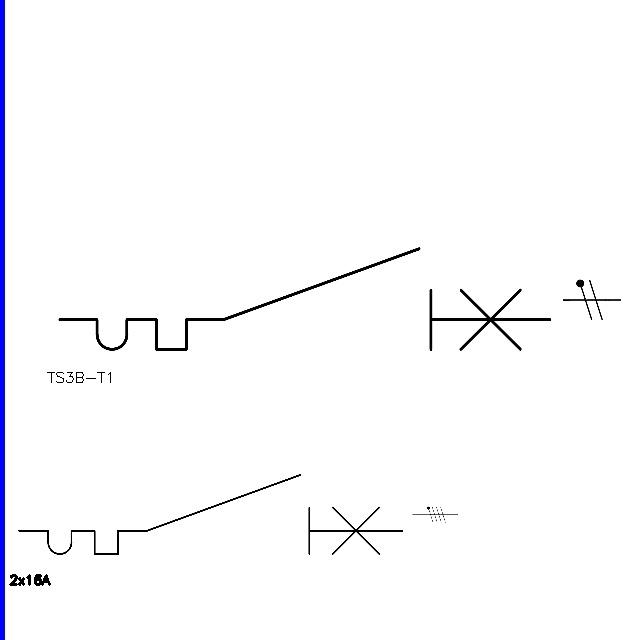interruptor_termomagnetico: (47, 236, 563, 362), (9, 465, 412, 564)
